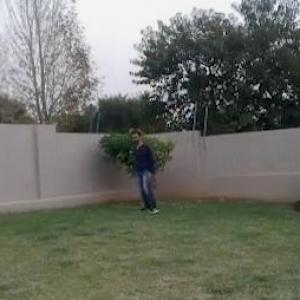follow: (130, 123, 159, 222)
